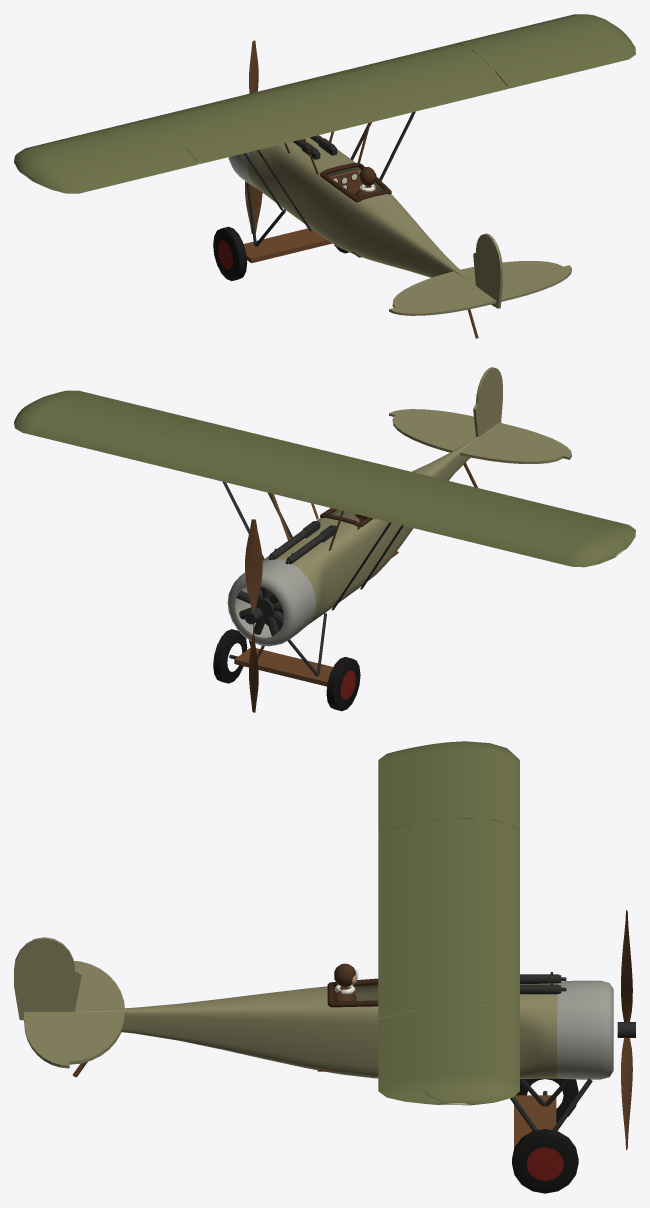
The model's file is fokker_dviii.glb.
3 views of the same model, one above another, from view 1: azimuth 30°, elevation 25°; view 2: azimuth 150°, elevation 25°; view 3: azimuth 270°, elevation 25° (orthographic). The views are drawn at different scales.
Visible parts, largest first — view 1: Wing_Main_L, Wing_Main_R, Fuselage, Aileron_L, Aileron_R, Elevator, Undercarriage, Rudder, Wheels, Stabilizer_L, Struts, PropBlades (+4 smaller); view 2: Wing_Main_L, Wing_Main_R, Fuselage, Cowling, Wheels, Elevator, Undercarriage, PropBlades, Stabilizer_L, Stabilizer_R, Rudder, Aileron_L (+4 smaller); view 3: Wing_Main_R, Wing_Main_L, Fuselage, Cowling, Rudder, Wheels, Aileron_R, Aileron_L, Stabilizer_R, Undercarriage, PropBlades, Elevator (+4 smaller).
Boxes of the visible parts, bbox=[...] form: Wing_Main_L: bbox=[14, 81, 353, 178]; Wing_Main_R: bbox=[301, 14, 625, 126]; Fuselage: bbox=[248, 137, 475, 285]; Aileron_L: bbox=[29, 146, 198, 193]; Aileron_R: bbox=[495, 34, 635, 88]; Elevator: bbox=[389, 265, 571, 315]; Undercarriage: bbox=[243, 183, 478, 338]; Rudder: bbox=[473, 233, 502, 308]; Wheels: bbox=[213, 226, 348, 280]; Stabilizer_L: bbox=[392, 271, 477, 307]; Struts: bbox=[243, 111, 415, 231]; PropBlades: bbox=[245, 40, 262, 233]; Wing_Main_L: bbox=[297, 458, 625, 567]; Wing_Main_R: bbox=[14, 394, 353, 499]; Fuselage: bbox=[262, 436, 478, 625]; Cowling: bbox=[227, 559, 316, 646]; Wheels: bbox=[213, 629, 360, 711]; Elevator: bbox=[389, 409, 571, 459]; Undercarriage: bbox=[229, 462, 477, 686]; PropBlades: bbox=[244, 519, 262, 712]; Stabilizer_L: bbox=[460, 435, 562, 463]; Stabilizer_R: bbox=[392, 415, 475, 452]; Rudder: bbox=[473, 367, 502, 436]; Aileron_L: bbox=[495, 495, 635, 550]; Wing_Main_R: bbox=[378, 911, 519, 1105]; Wing_Main_L: bbox=[378, 741, 519, 925]; Fuselage: bbox=[75, 983, 557, 1078]; Cowling: bbox=[557, 980, 613, 1079]; Rudder: bbox=[14, 937, 81, 1020]; Wheels: bbox=[512, 1078, 578, 1193]; Aileron_R: bbox=[378, 1010, 447, 1104]; Aileron_L: bbox=[378, 746, 419, 831]; Stabilizer_R: bbox=[69, 1011, 124, 1064]; Undercarriage: bbox=[72, 1061, 592, 1148]; PropBlades: bbox=[617, 910, 635, 1149]; Elevator: bbox=[24, 1012, 69, 1068].
Bounding box in the file's own units: 8.4 × 2.69 × 6.15.
